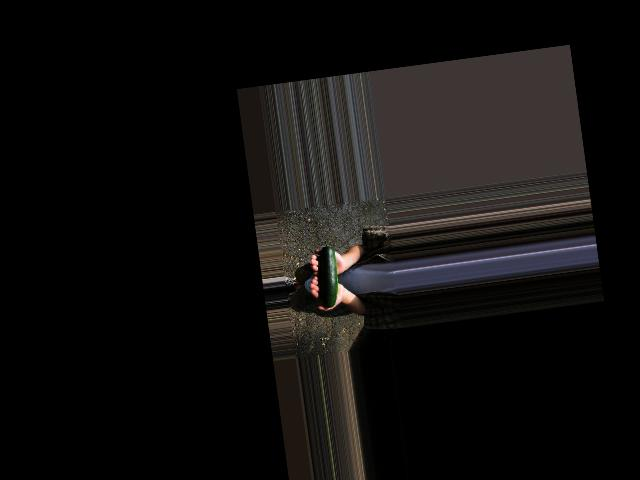cucumber: (313, 237, 341, 307)
